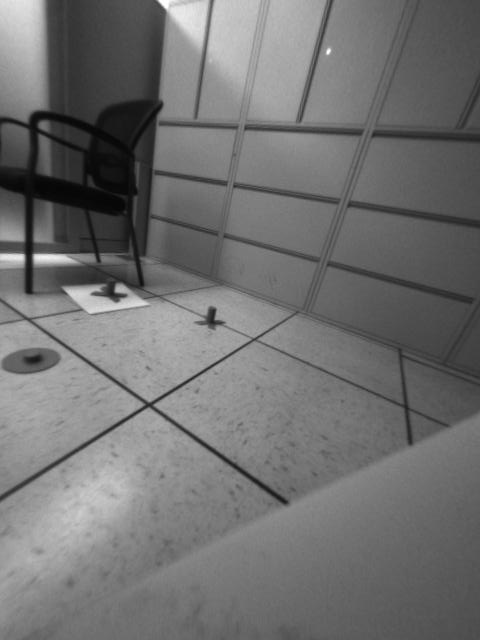X: (88, 275, 129, 303), (193, 306, 224, 330)
